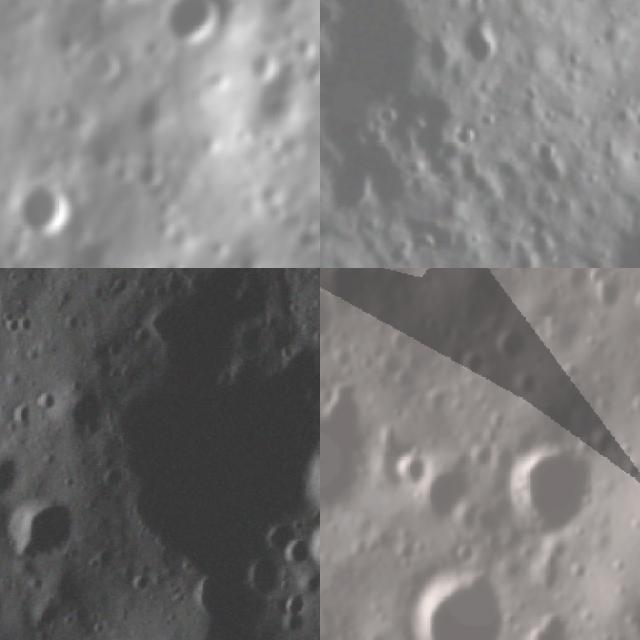crater: (18, 268, 320, 617), (320, 0, 456, 141), (0, 468, 99, 586), (497, 442, 596, 549), (398, 574, 510, 640), (320, 396, 374, 525), (236, 63, 311, 143), (286, 382, 320, 535), (9, 174, 78, 248), (394, 92, 458, 167), (414, 462, 476, 534), (153, 0, 225, 54), (320, 156, 377, 223), (362, 157, 419, 217), (0, 427, 38, 508), (525, 133, 573, 195), (42, 97, 100, 148), (490, 314, 537, 373), (133, 84, 177, 138), (583, 275, 629, 324), (387, 446, 434, 493), (456, 23, 500, 71), (297, 503, 320, 594), (82, 43, 128, 85), (519, 607, 576, 640), (123, 158, 167, 198), (81, 135, 120, 179), (524, 223, 562, 268), (189, 126, 229, 168), (453, 349, 488, 392), (243, 50, 281, 89), (419, 384, 456, 421), (144, 194, 180, 231), (320, 279, 339, 345), (50, 30, 83, 64), (291, 32, 320, 64), (536, 569, 567, 598), (388, 326, 416, 356), (146, 221, 178, 247), (102, 0, 155, 15), (390, 366, 419, 393), (558, 354, 584, 380), (418, 313, 443, 337), (625, 390, 640, 422), (472, 268, 510, 280), (633, 277, 640, 316)
